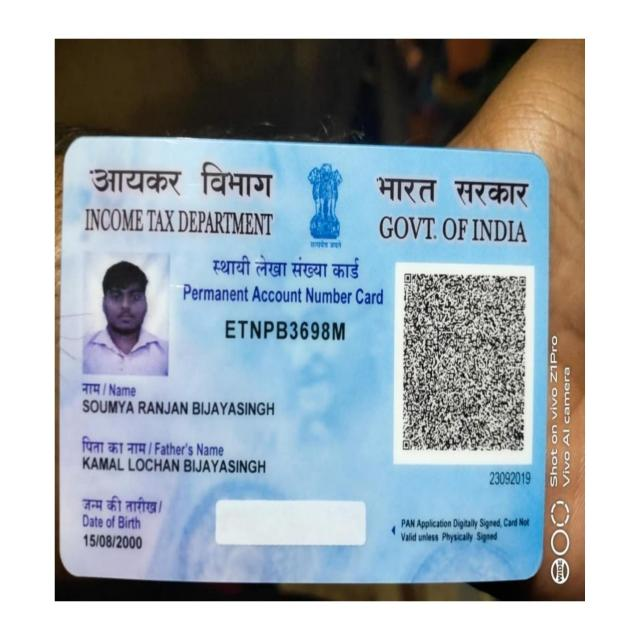pan_card: (64, 149, 537, 564)
